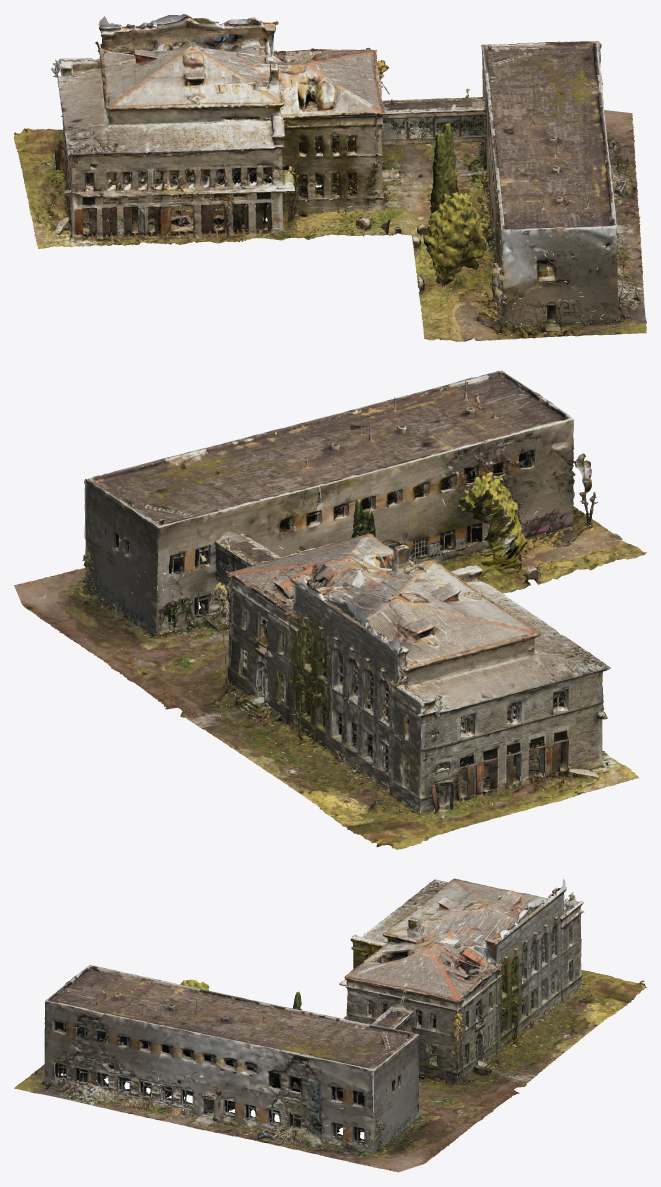
File: SM_LaitseStation.glb
The picture shows the model from 3 angles, top to bottom: view 1: azimuth 30°, elevation 25°; view 2: azimuth 150°, elevation 25°; view 3: azimuth 270°, elevation 25°; orthographic projection. The views are drawn at different scales.
Parts seen in each view (by area): view 1: SM_LaitseStation; view 2: SM_LaitseStation; view 3: SM_LaitseStation.
Boxes of the visible parts, x1,y1,x2,y2 form: SM_LaitseStation: (14,14,646,341); SM_LaitseStation: (14,370,646,849); SM_LaitseStation: (14,878,646,1172).
Size of the model in its own units: 11.27 by 2.8 by 12.6.
4 materials, 4 textured.
